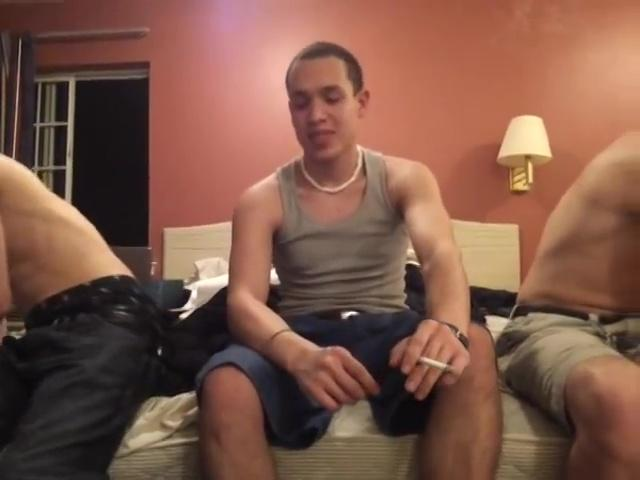cigarette: (421, 352, 458, 375)
